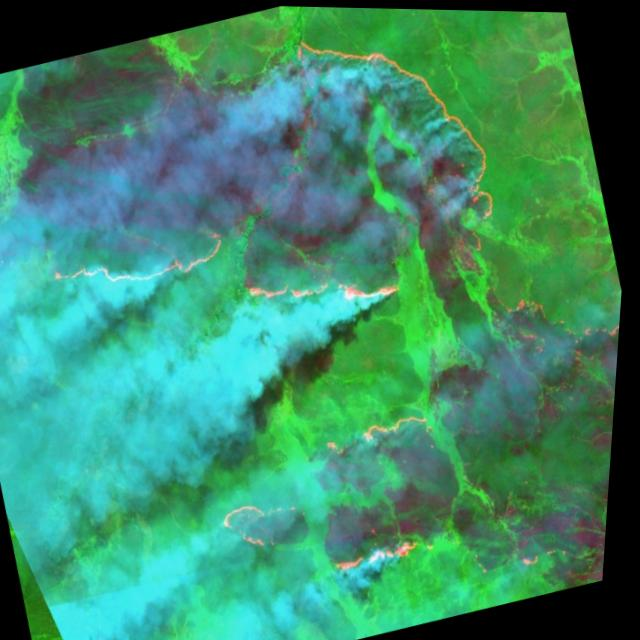fire: (0, 0, 534, 410), (171, 263, 626, 640)
